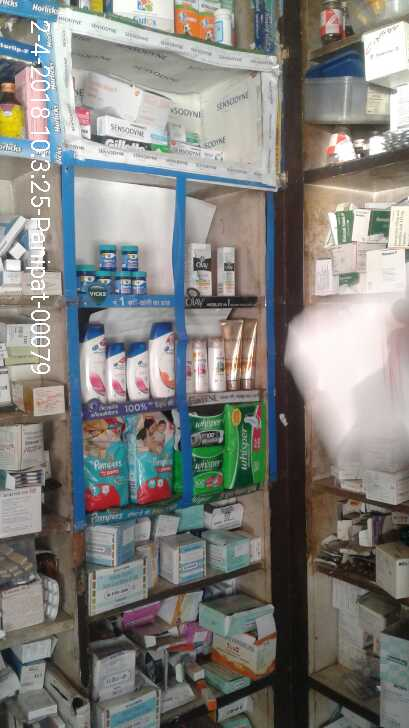vicks: (79, 241, 149, 295)
